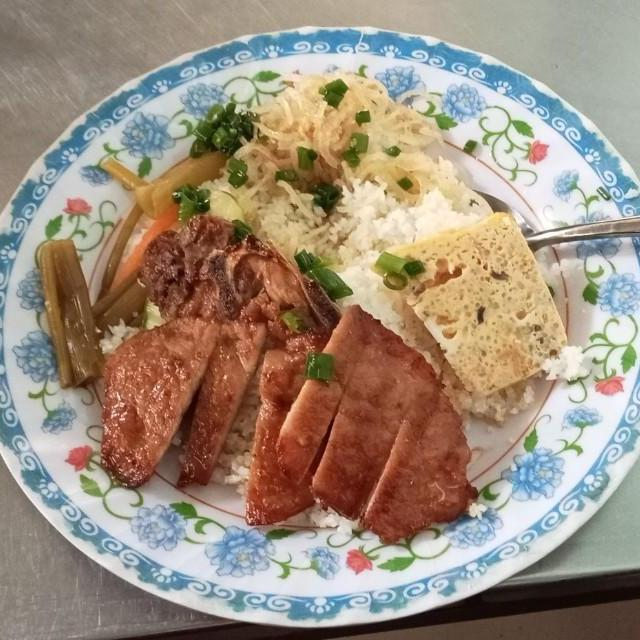bi: (225, 63, 473, 211)
cha: (369, 208, 571, 399)
com: (249, 156, 496, 374), (207, 366, 274, 502), (435, 370, 549, 436), (538, 340, 592, 389)
com suon bi cha: (0, 50, 640, 640)
dua chua: (31, 140, 234, 392)
suon: (93, 210, 359, 530), (270, 301, 481, 548)
